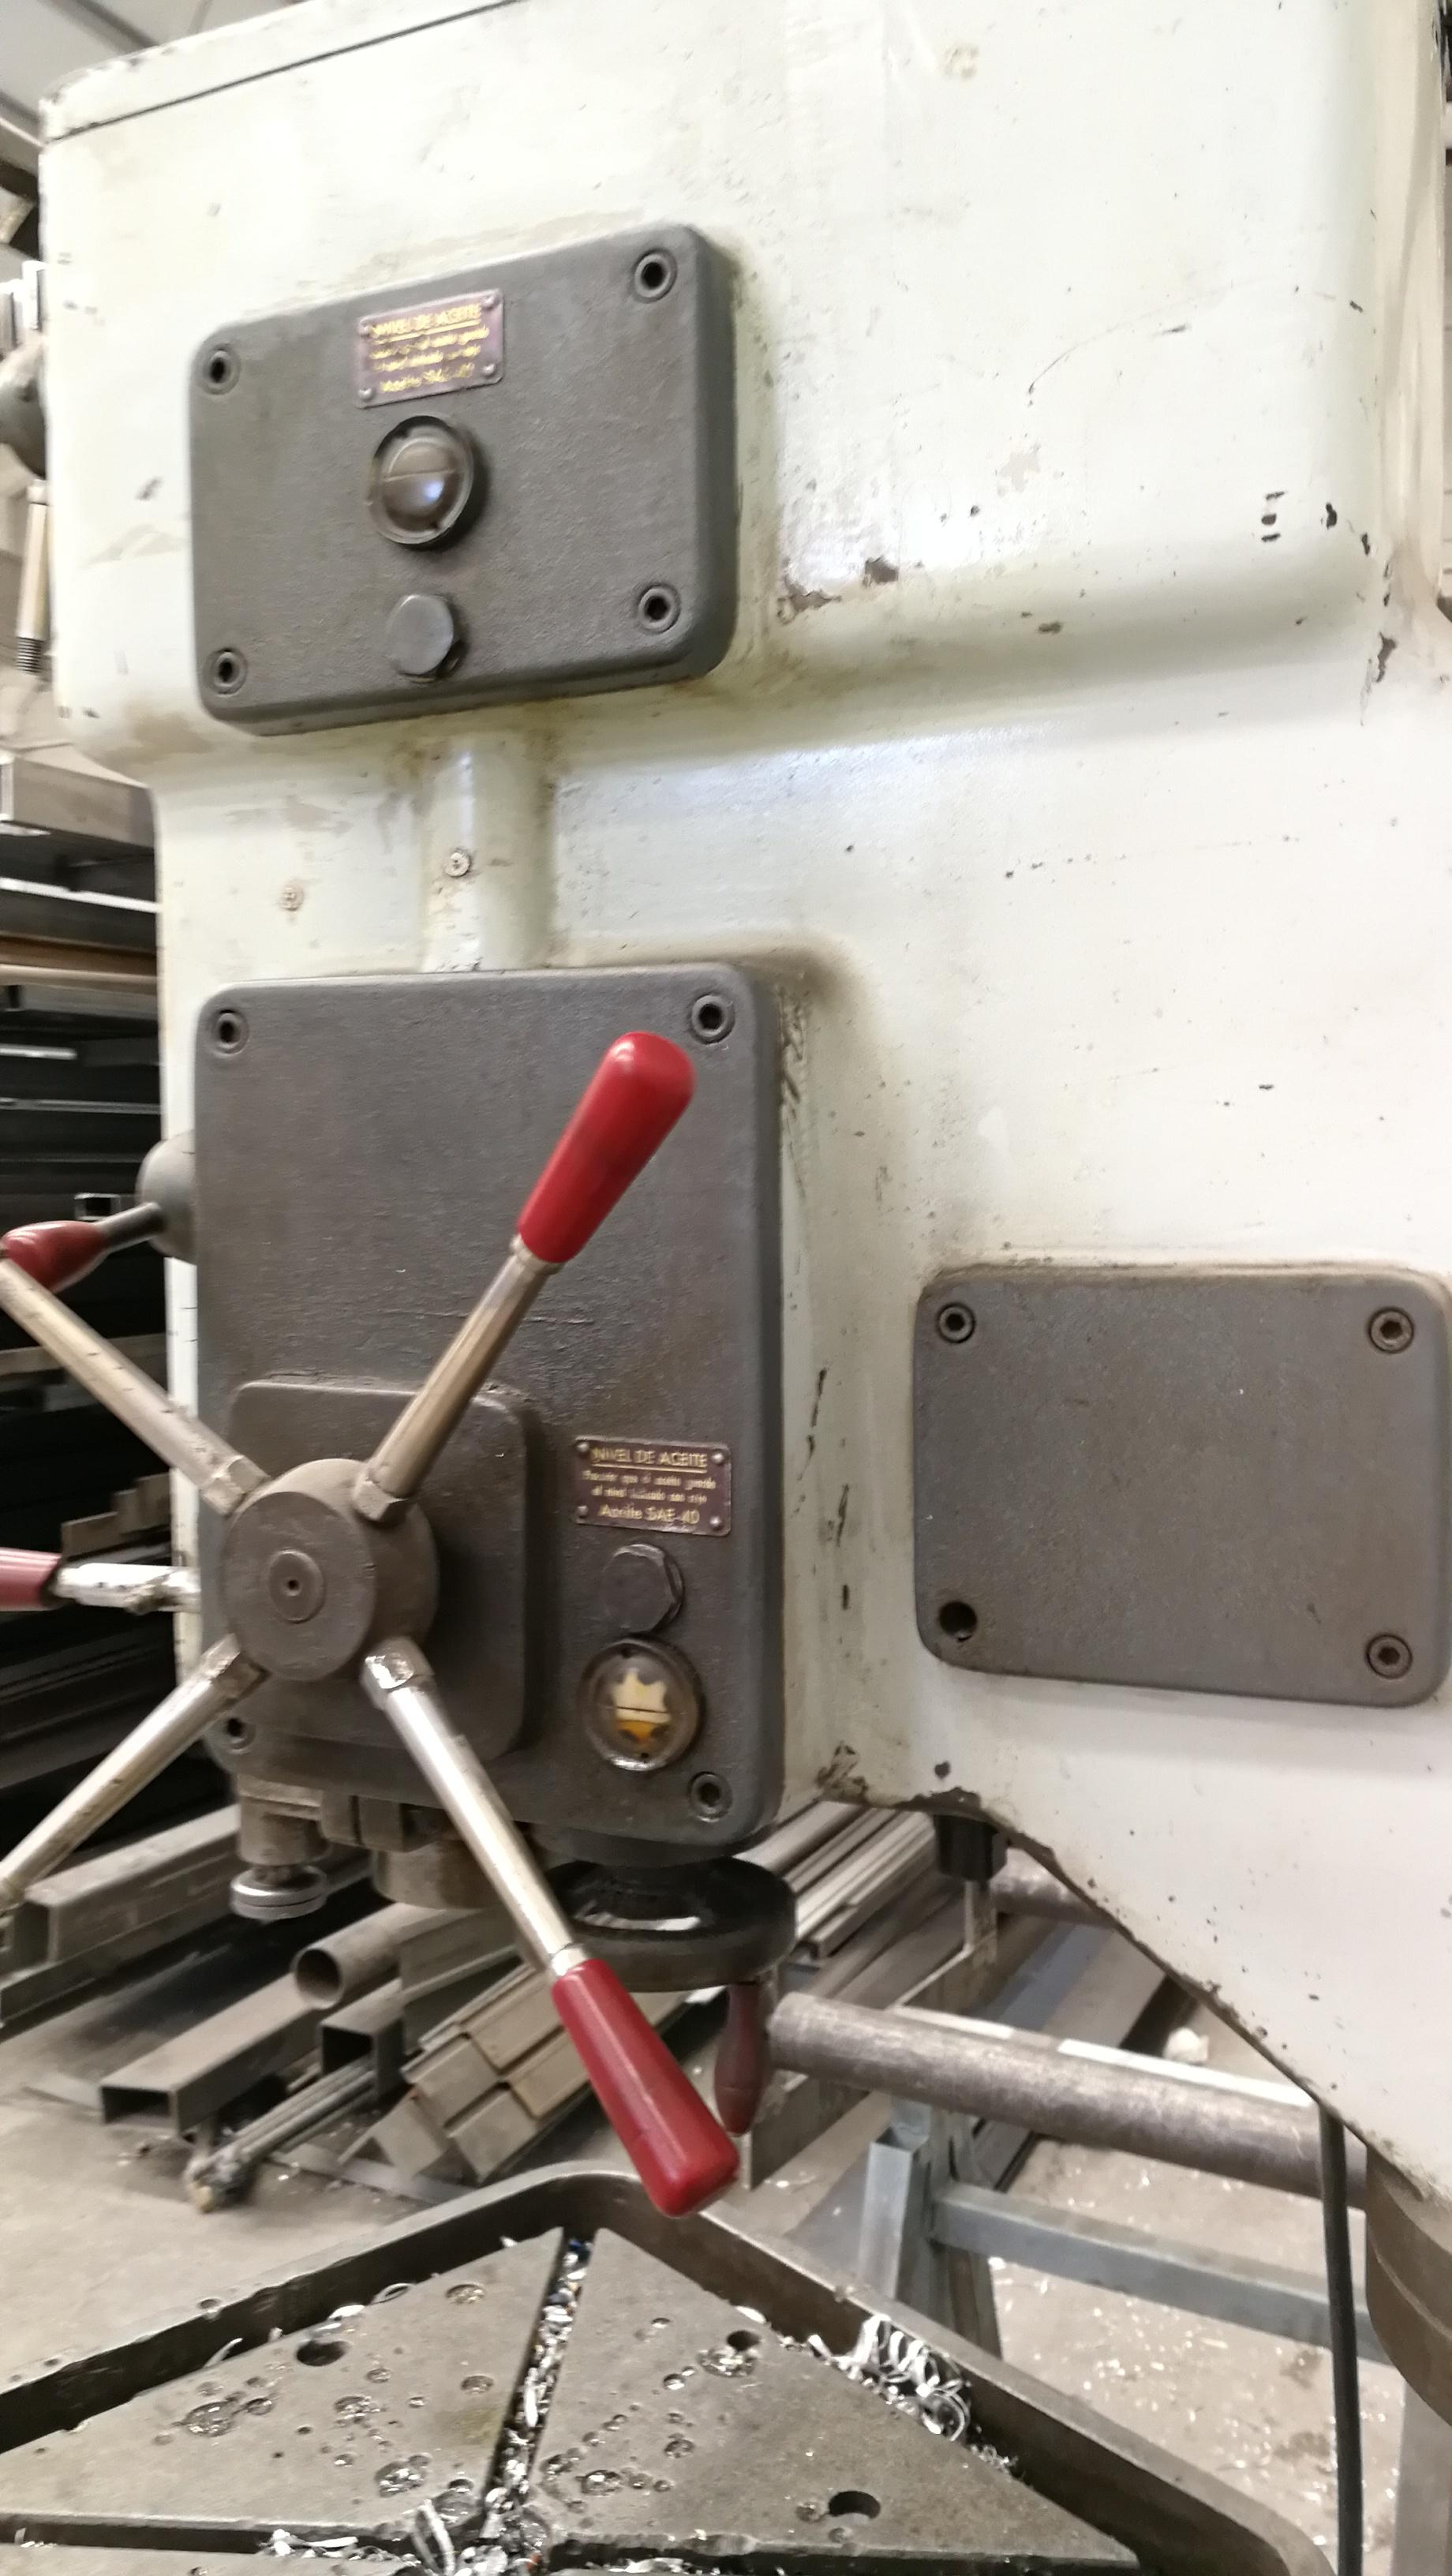falta_resguardo: (367, 1811, 833, 2078)
sin_senalizacion_riesgos: (911, 724, 1396, 1172)
